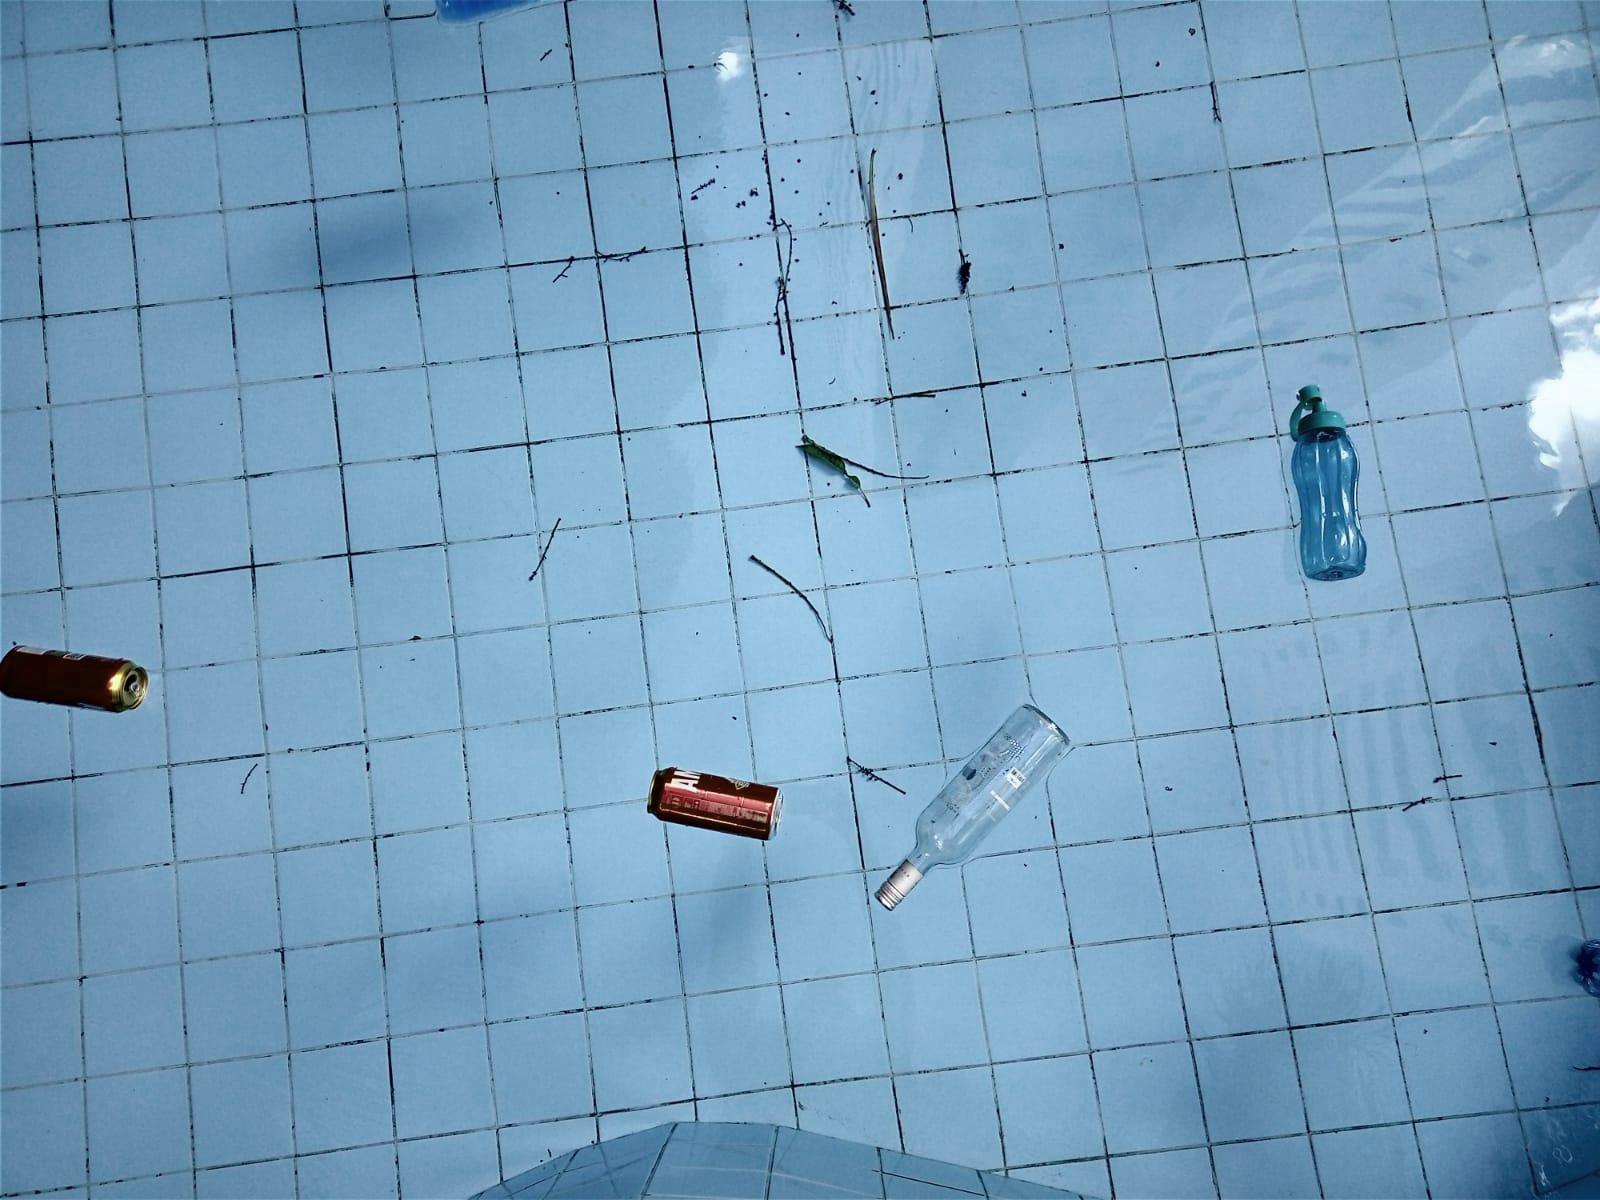Metal: (0, 590, 195, 750), (611, 744, 808, 884)
Plastic: (854, 663, 1130, 914), (1261, 361, 1385, 587)
